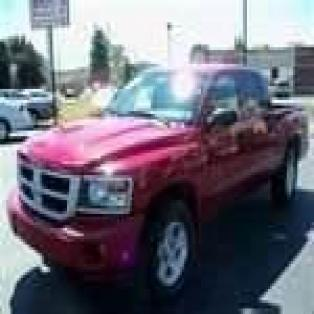Auto: (4, 58, 310, 303)
